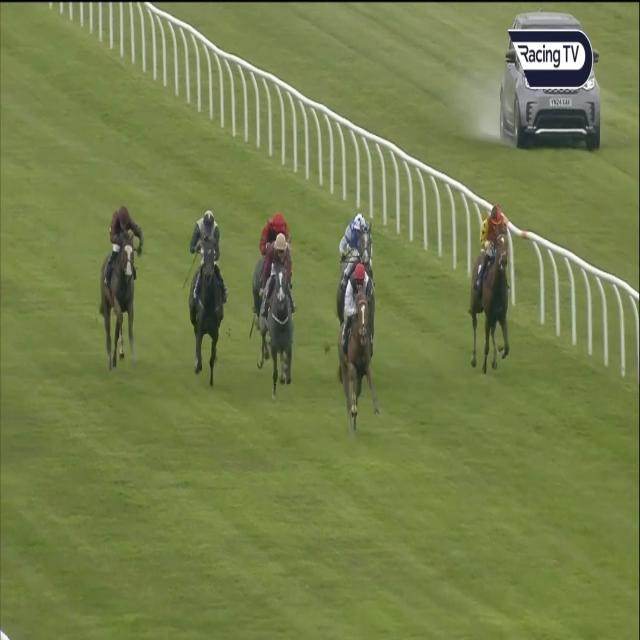horses-racing: (98, 209, 146, 368), (335, 266, 380, 431), (188, 205, 228, 389), (472, 202, 512, 367), (260, 234, 296, 387), (341, 209, 377, 295), (254, 211, 293, 275)
